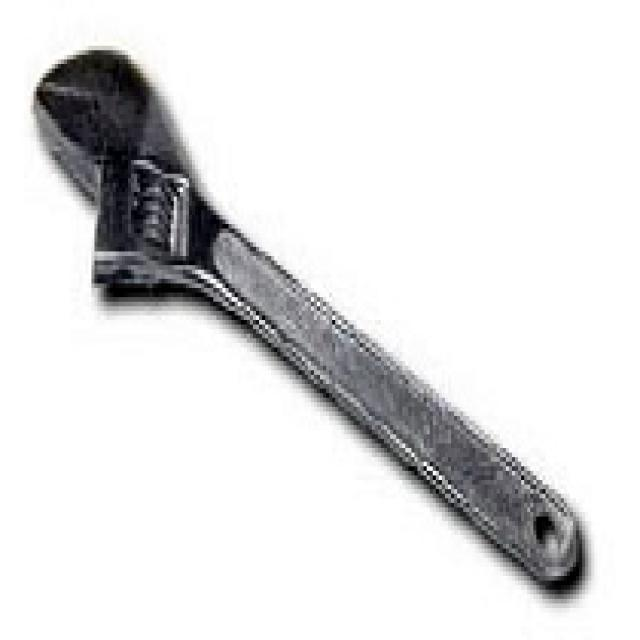wrench: (24, 34, 589, 598)
